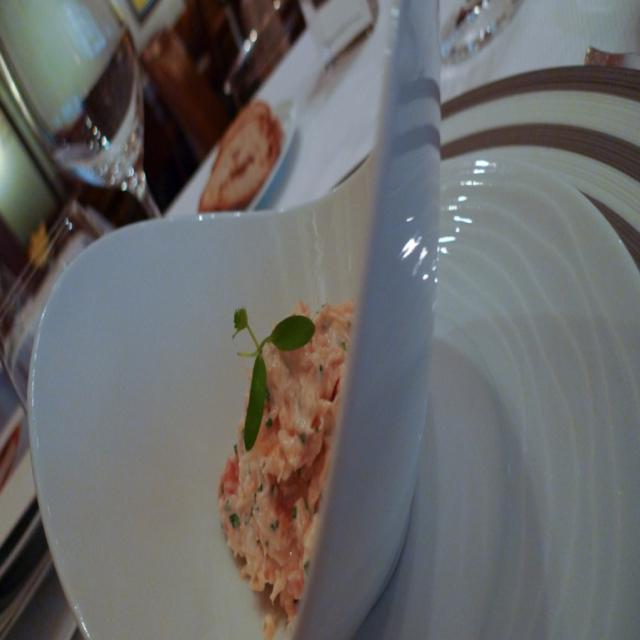non-organic waste: (24, 175, 640, 640)
